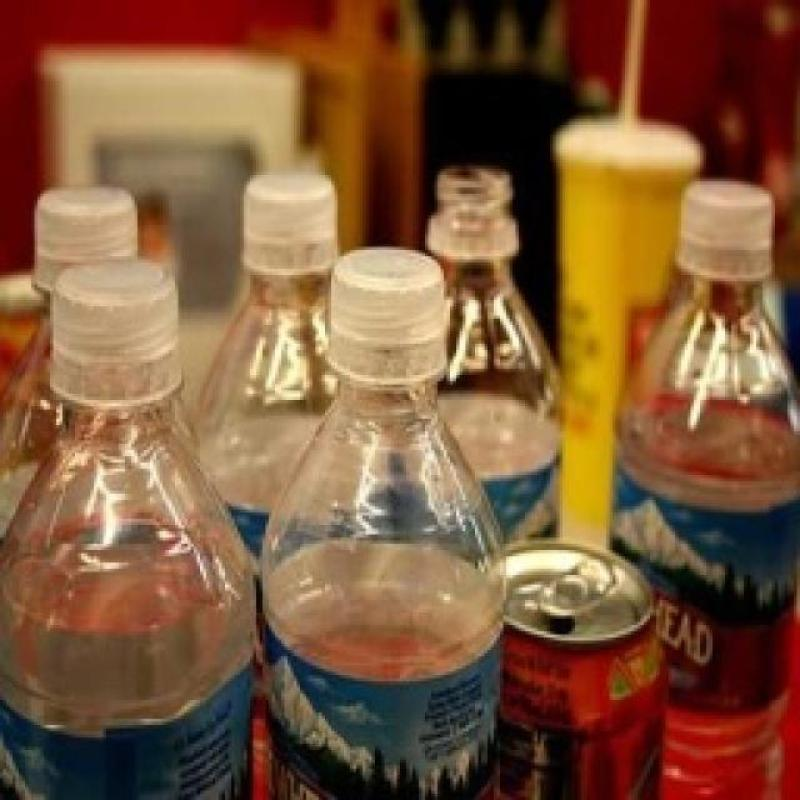botella: (0, 262, 262, 799), (256, 250, 500, 800), (602, 177, 799, 800), (0, 184, 202, 540), (195, 174, 380, 548), (414, 167, 568, 558)
